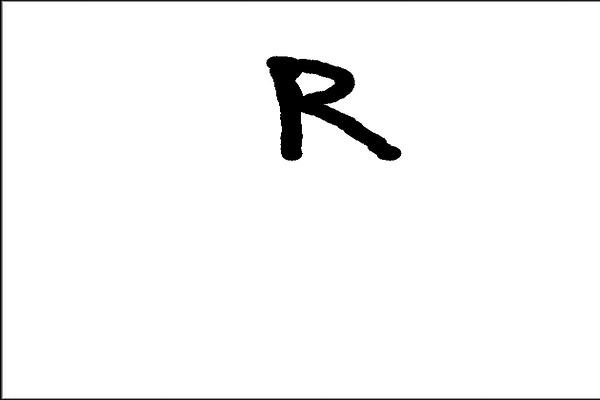R: (260, 34, 407, 170)
